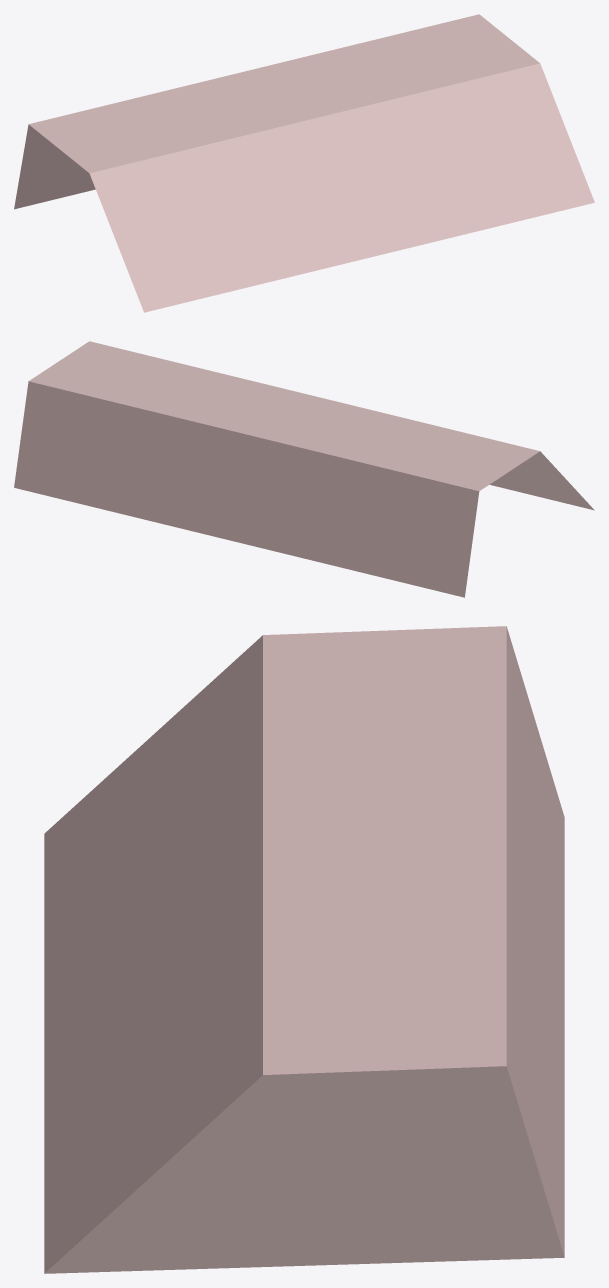
The model's file is castle_roof_02_top.fbx.
3 views of the same model, one above another, from view 1: azimuth 30°, elevation 25°; view 2: azimuth 150°, elevation 25°; view 3: azimuth 270°, elevation 25° (orthographic). The views are drawn at different scales.
Parts seen in each view (by area): view 1: castle_roof_02_top; view 2: castle_roof_02_top; view 3: castle_roof_02_top.
Part boxes in pixels (x1,y1,x2,y2): castle_roof_02_top: (14, 14, 594, 312); castle_roof_02_top: (14, 341, 594, 597); castle_roof_02_top: (44, 626, 564, 1273).
Bounding box in the file's own units: 8 × 1.76 × 4.
